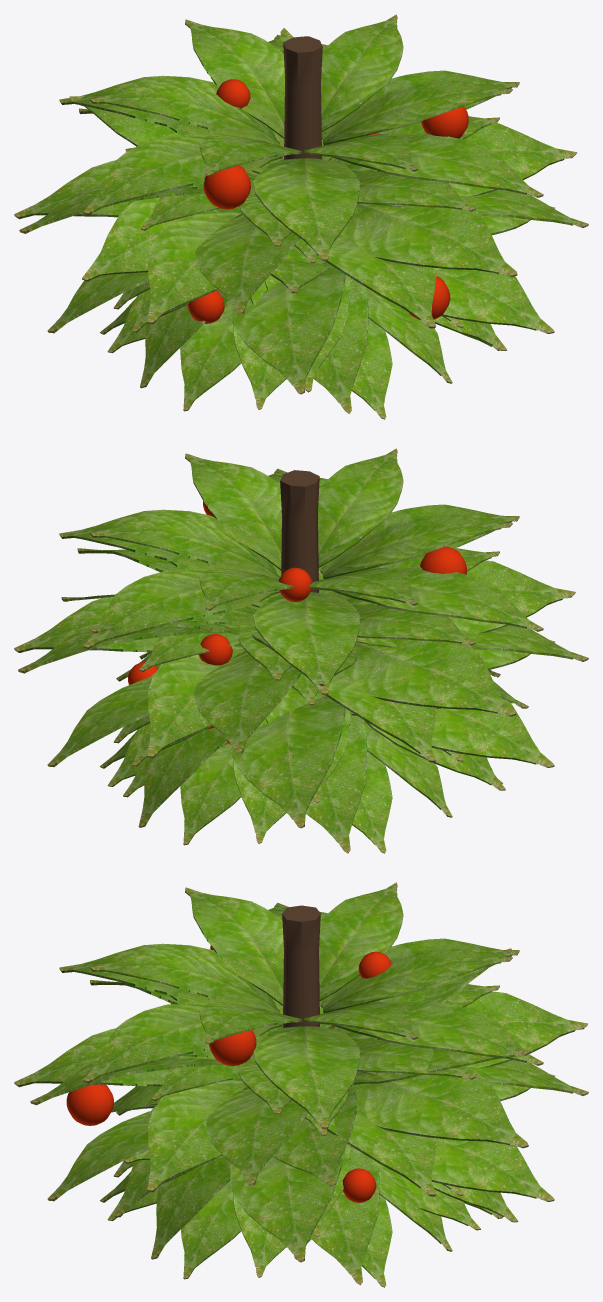
Rendered from Mistletoe_Mesh.fbx.
3 views of the same model, one above another, from view 1: azimuth 30°, elevation 25°; view 2: azimuth 150°, elevation 25°; view 3: azimuth 270°, elevation 25° (orthographic).
Parts seen in each view (by area): view 1: polySurface215, polySurface205, polySurface187; view 2: polySurface215, polySurface187, polySurface205; view 3: polySurface215, polySurface205, polySurface187.
Boxes of the visible parts, x1,y1,x2,y2 form: polySurface215: (14, 14, 588, 419); polySurface205: (188, 79, 468, 323); polySurface187: (283, 36, 322, 159); polySurface215: (14, 448, 588, 853); polySurface187: (280, 470, 319, 592); polySurface205: (128, 501, 466, 744); polySurface215: (14, 882, 588, 1287); polySurface205: (66, 946, 391, 1202); polySurface187: (282, 905, 320, 1027).
Size of the model in its own units: 95.86 by 53.67 by 94.09.
